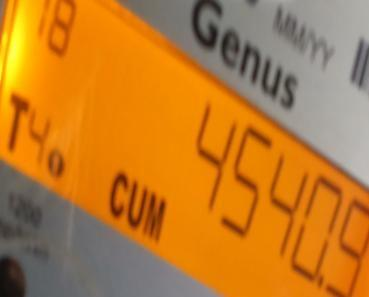0: (317, 274, 324, 288)
1: (289, 182, 348, 284)
5: (195, 103, 237, 211), (266, 154, 309, 259)
6: (221, 125, 273, 240)
:: (325, 199, 369, 297)
